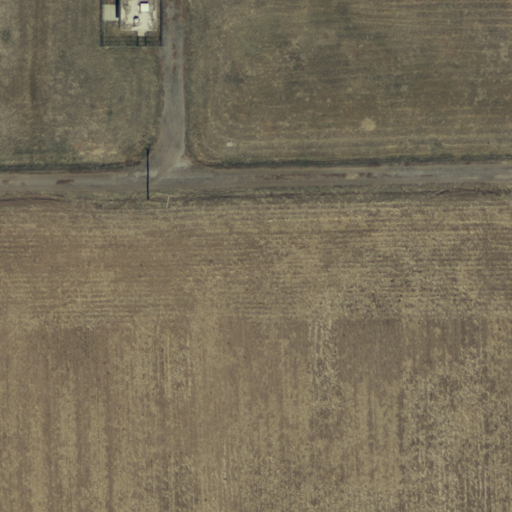DT: (137, 190, 170, 213)
